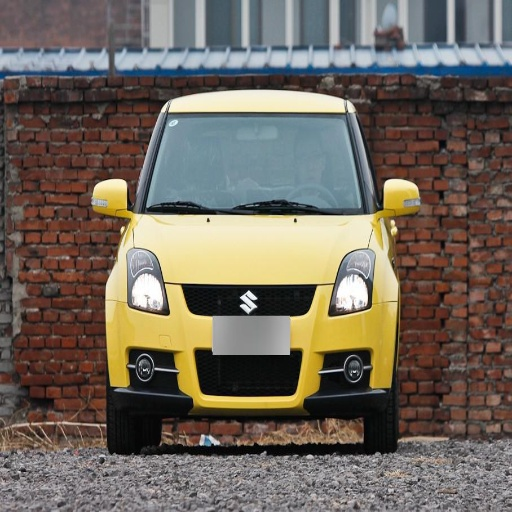front_bumper: (110, 282, 396, 415)
front_right_light: (126, 249, 170, 315)
hood: (133, 215, 376, 282)
left_mirror: (383, 180, 420, 218)
